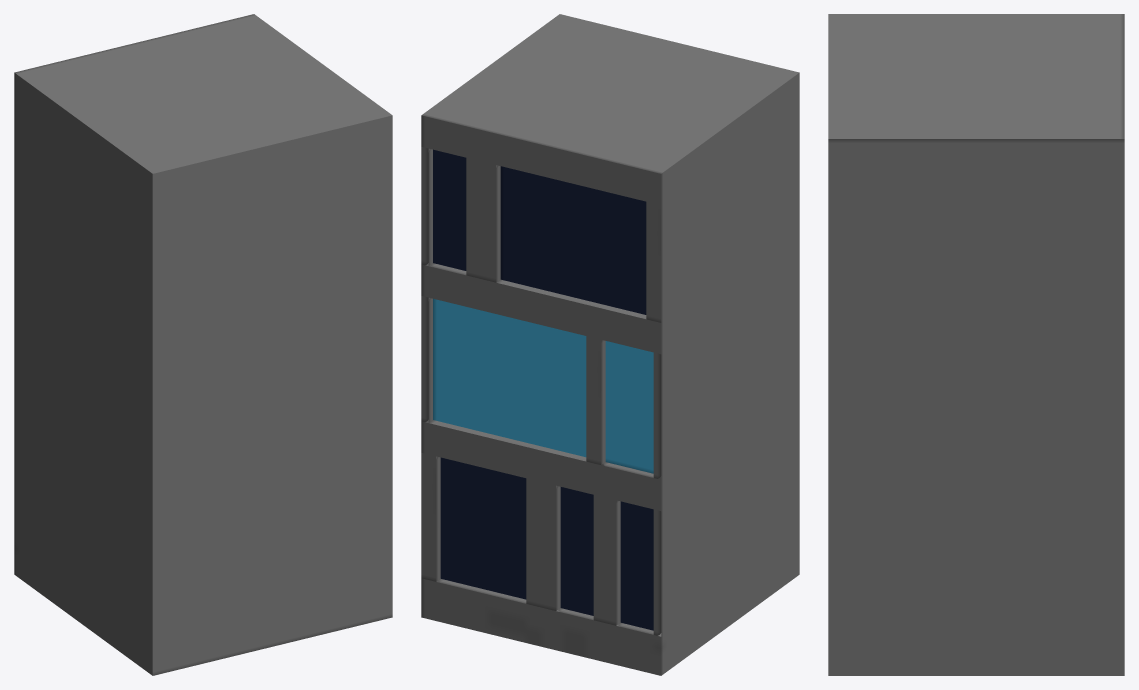
Rendered from COŚ_ŚRODEK.dae.
The picture shows the model from 3 angles, left to right: view 1: azimuth 30°, elevation 25°; view 2: azimuth 150°, elevation 25°; view 3: azimuth 270°, elevation 25°; orthographic projection. The views are drawn at different scales.
Parts seen in each view (by area): view 1: Content; view 2: Content; view 3: Content.
Part boxes in pixels (<box>): Content: <box>14,14,392,675</box>; Content: <box>421,14,799,675</box>; Content: <box>828,14,1124,675</box>.
Bounding box in the file's own units: 32 × 64 × 32.
1 material, 1 textured.
